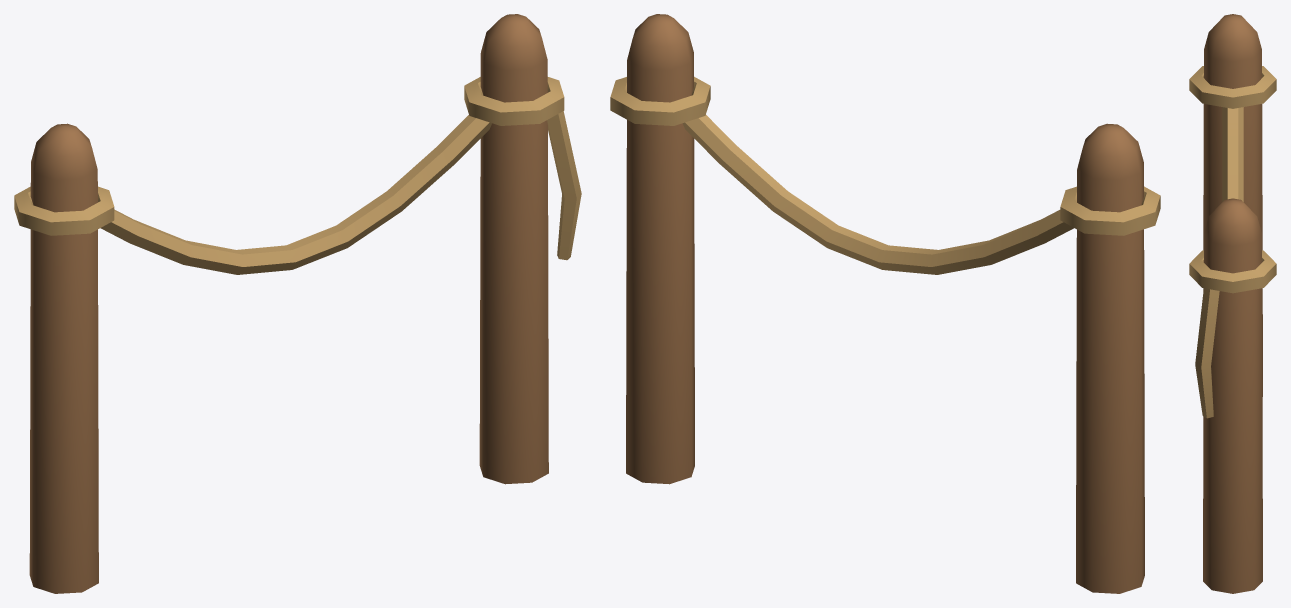
File: fence-rope-a.glb
3 views of the same model, side by side, from view 1: azimuth 30°, elevation 25°; view 2: azimuth 150°, elevation 25°; view 3: azimuth 270°, elevation 25° (orthographic). The views are drawn at different scales.
Visible parts, largest first — view 1: rope-fence; view 2: rope-fence; view 3: rope-fence.
Boxes of the visible parts, x1,y1,x2,y2 form: rope-fence: (14, 14, 581, 593); rope-fence: (610, 14, 1160, 593); rope-fence: (1189, 14, 1276, 593).
Bounding box in the file's own units: 1.09 × 0.865 × 0.1796.
